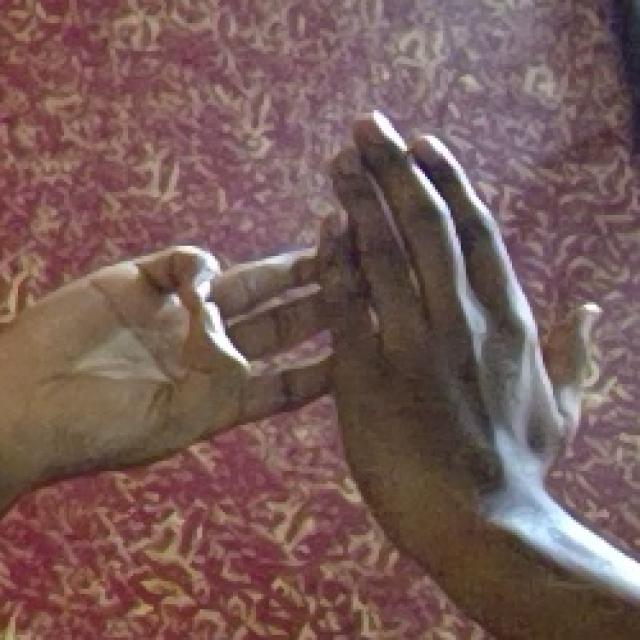Alphabet-M: (6, 98, 616, 520)
